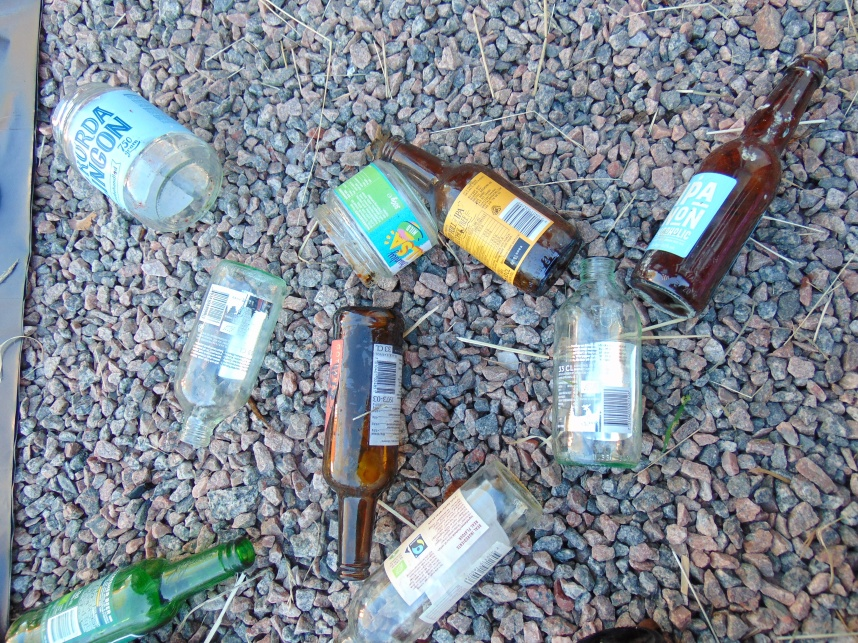glass_bottle: (632, 51, 829, 323), (342, 457, 540, 643), (377, 135, 577, 293), (50, 79, 223, 234), (1, 539, 256, 643), (173, 259, 287, 451), (546, 256, 646, 474), (324, 305, 402, 584), (310, 161, 442, 286), (574, 625, 662, 643)
